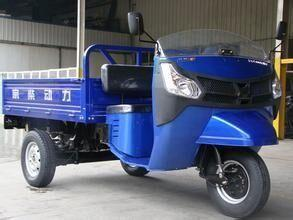tricycle: (6, 31, 277, 215)
